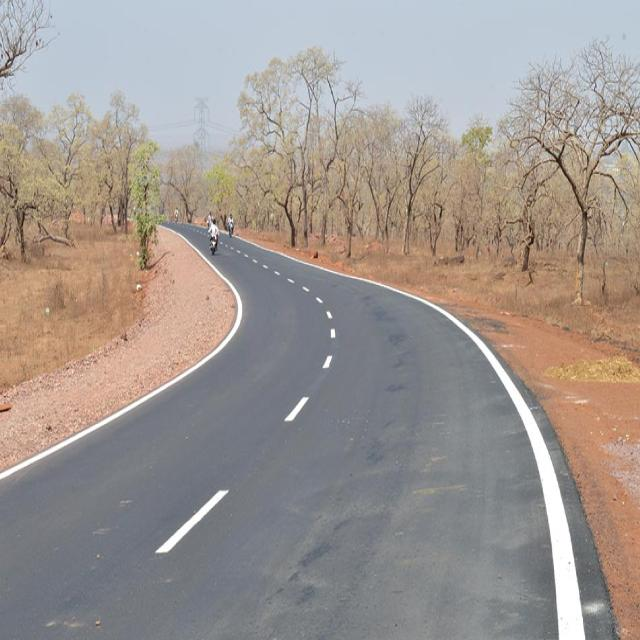Clean road: (0, 225, 640, 640)
